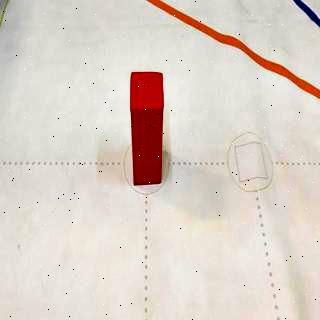redbox: (128, 69, 164, 187)
